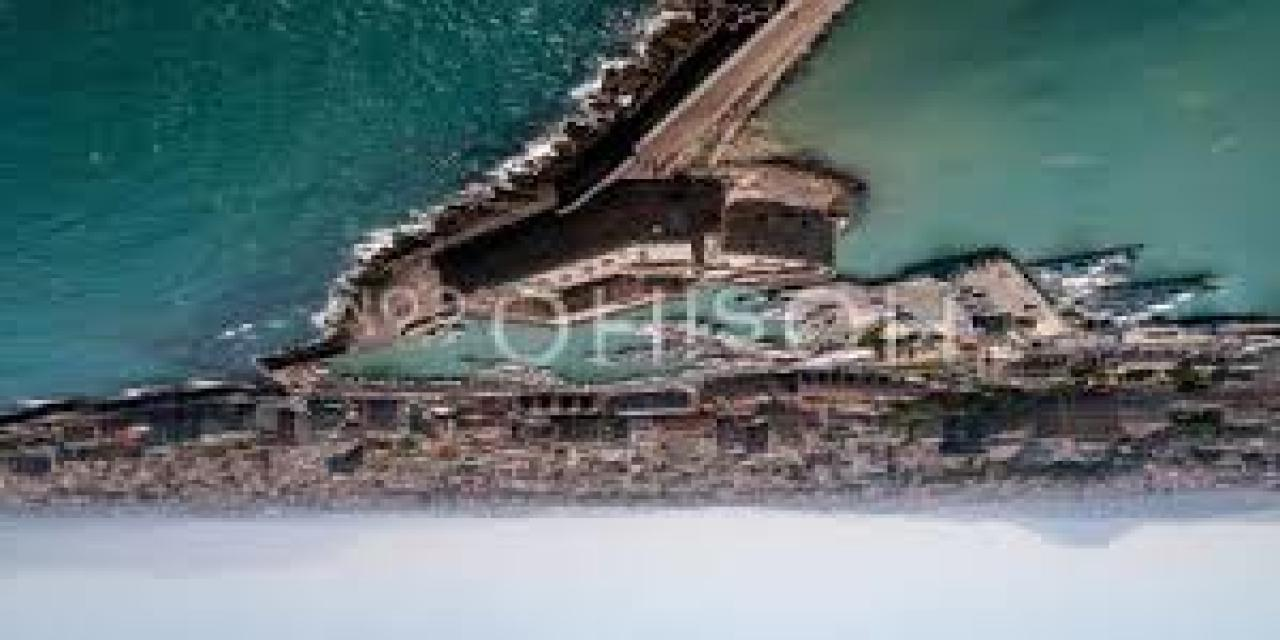Kules: (432, 177, 845, 353)
